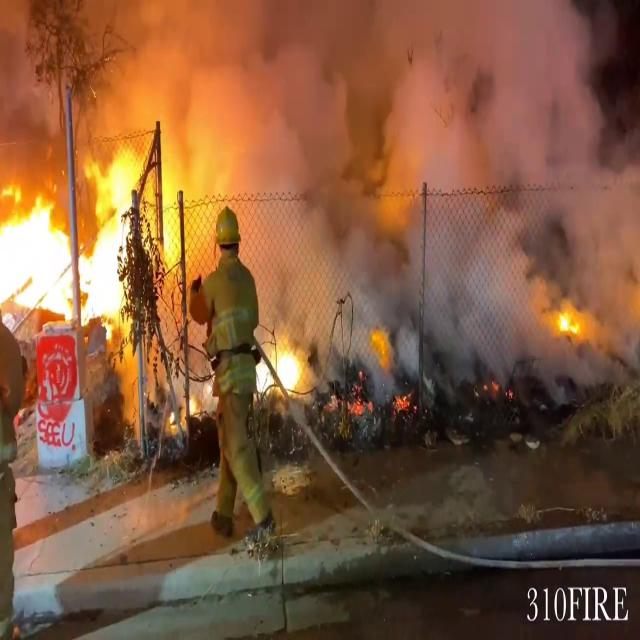Fire: (0, 144, 167, 336), (262, 329, 314, 401), (548, 302, 590, 340)
Smoke: (190, 1, 640, 371)
